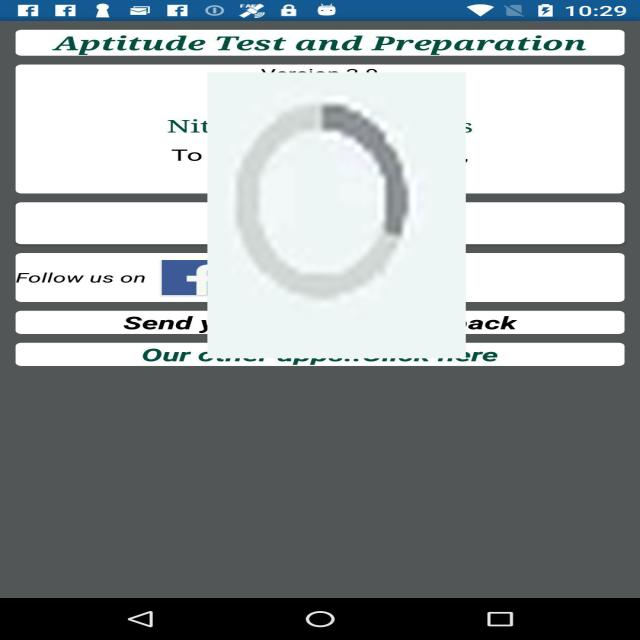misdirection: (207, 72, 466, 358)
